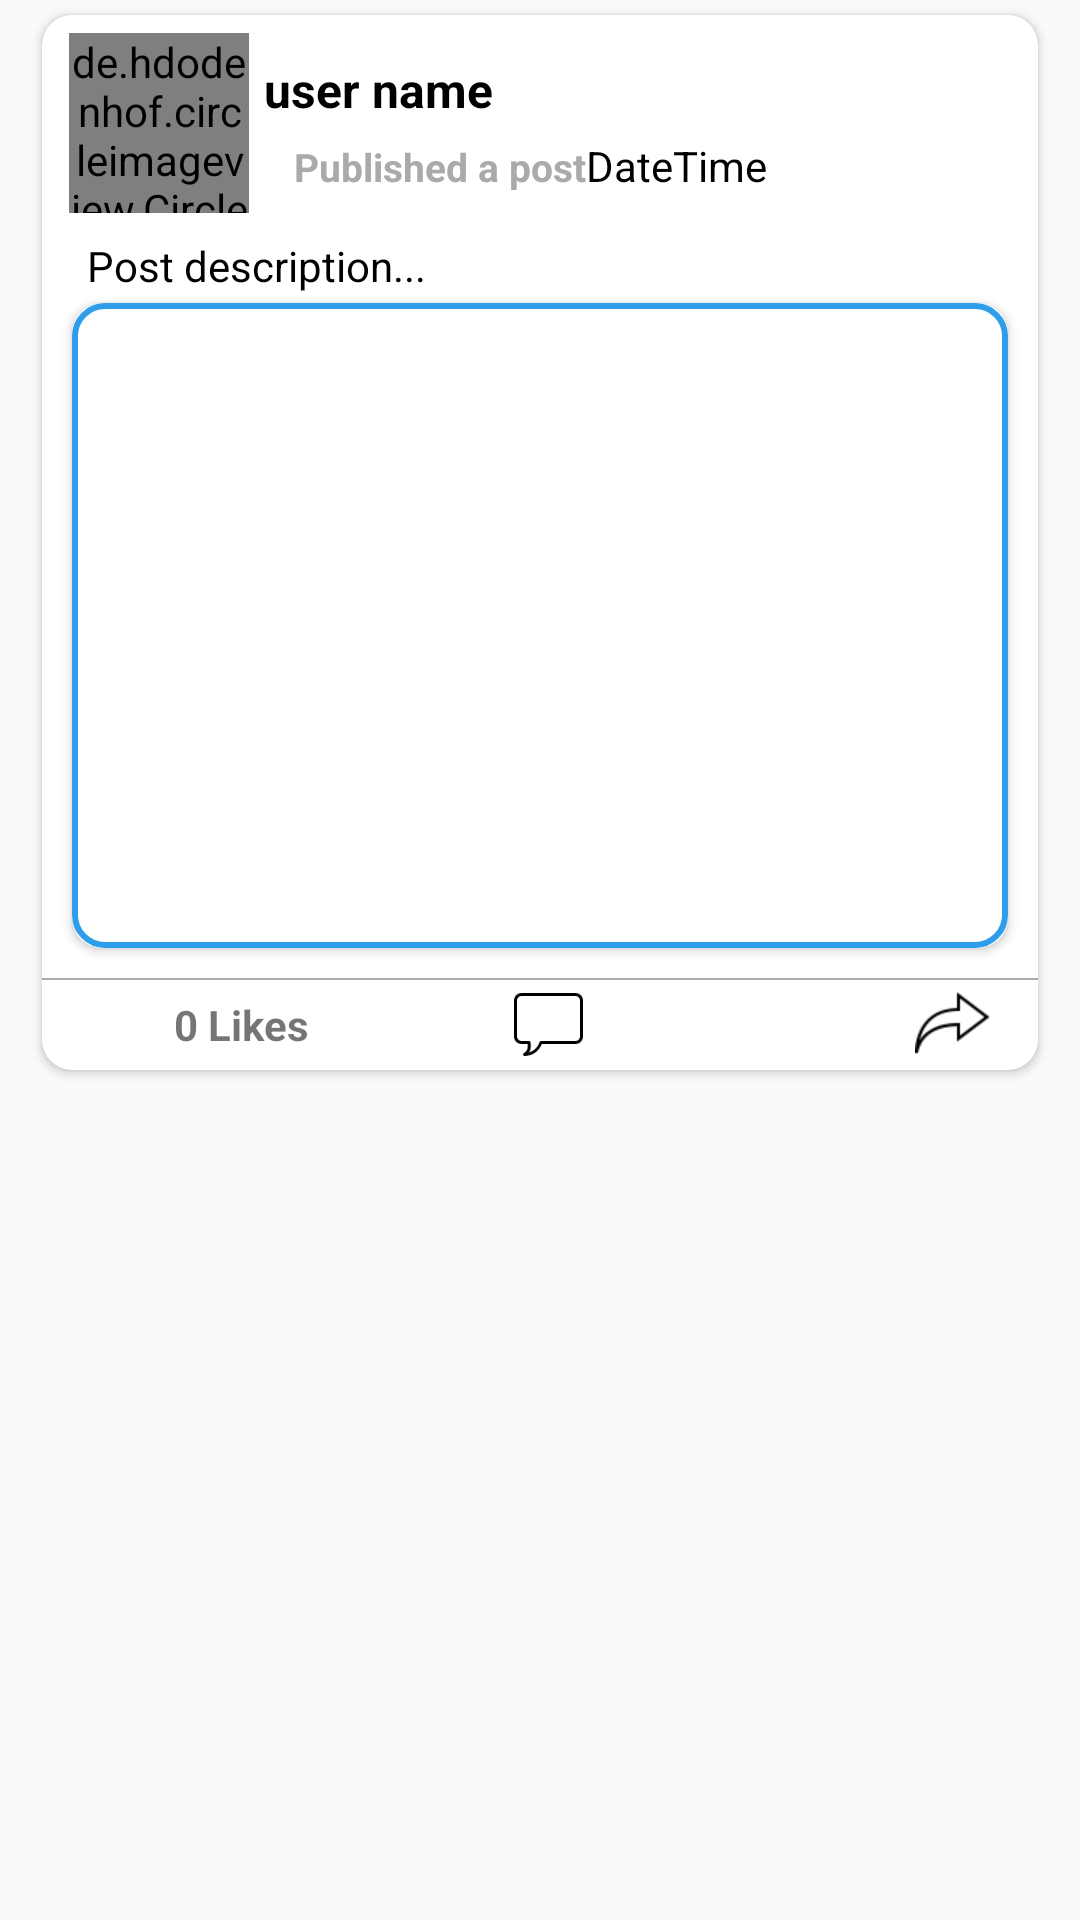

Where icons sit on this 1080 x 1920 app screen, as (x1, y1, x2, y2):
comments: (514, 993, 583, 1056)
share: (915, 992, 990, 1054)
